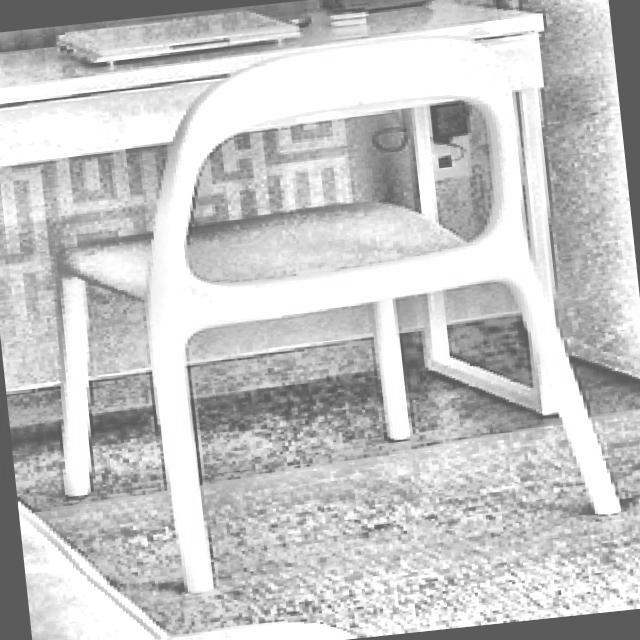chair: (17, 22, 626, 606)
